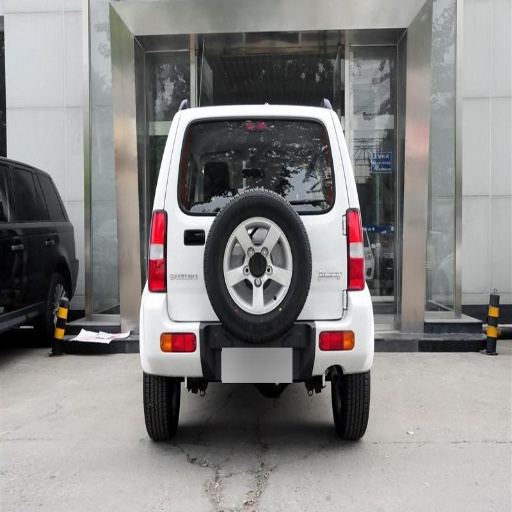back_bumper: (326, 287, 369, 364), (140, 316, 191, 366), (311, 214, 347, 271)
back_glass: (268, 120, 317, 152)
trunk: (169, 151, 253, 238), (284, 159, 336, 231)
